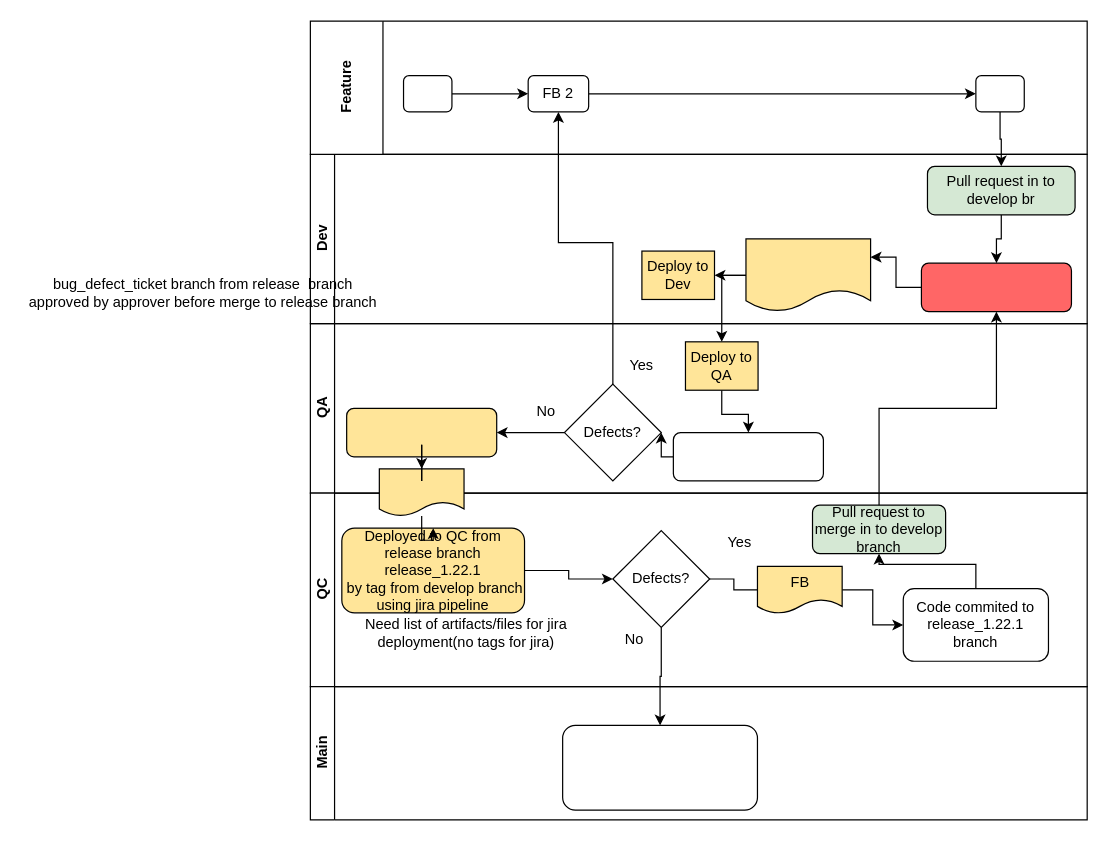
The diagram is 1108 pixels wide and 841 high, and some of its shapes have lost their labels. The centre of each missing label's shape, as x and y in pixels:
"Creating Jira ticket from develop to QC" belongs at point 421,432.
"Deployment to production from release branch using JIRA pipeline" belongs at point 659,767.
"Develop" belongs at point 808,275.
"FB 1" belongs at point 427,93.
"FB n" belongs at point 999,93.
"Pull request approved by approver" belongs at point 995,287.
"Release" belongs at point 421,492.
"Testing by QA team" belongs at point 747,456.
